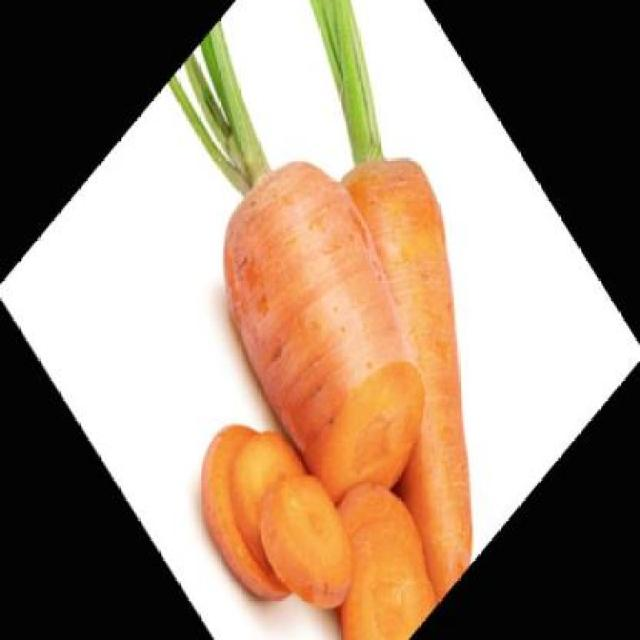carrot: (221, 116, 584, 630), (182, 121, 472, 536)
